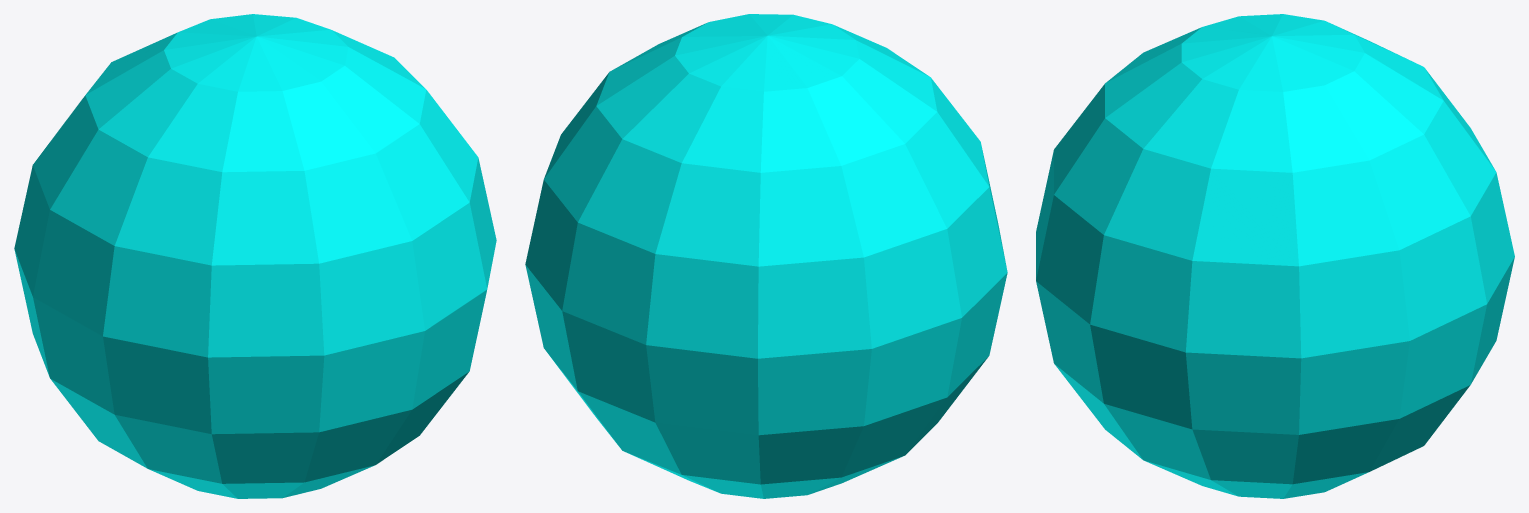
Rendered from torpedo.fbx.
The picture shows the model from 3 angles, left to right: view 1: azimuth 30°, elevation 25°; view 2: azimuth 150°, elevation 25°; view 3: azimuth 270°, elevation 25°; orthographic projection.
Visible parts, largest first — view 1: Sphere; view 2: Sphere; view 3: Sphere.
Boxes of the visible parts, <box> form: Sphere: <box>14,14,496,498</box>; Sphere: <box>525,14,1007,498</box>; Sphere: <box>1036,14,1514,498</box>.
Bounding box in the file's own units: 62.97 × 63.43 × 62.51.
1 material, 1 textured.
